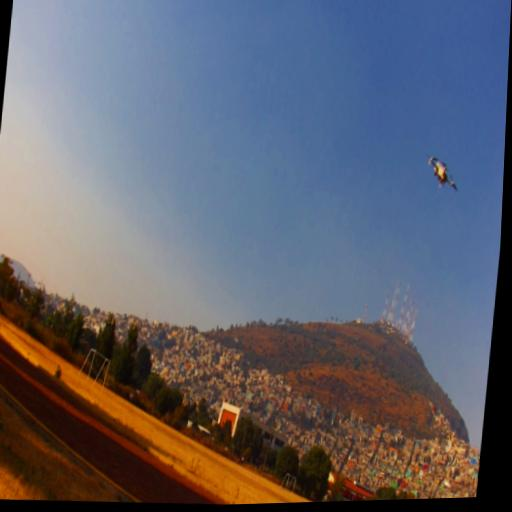drones: (421, 151, 463, 202)
